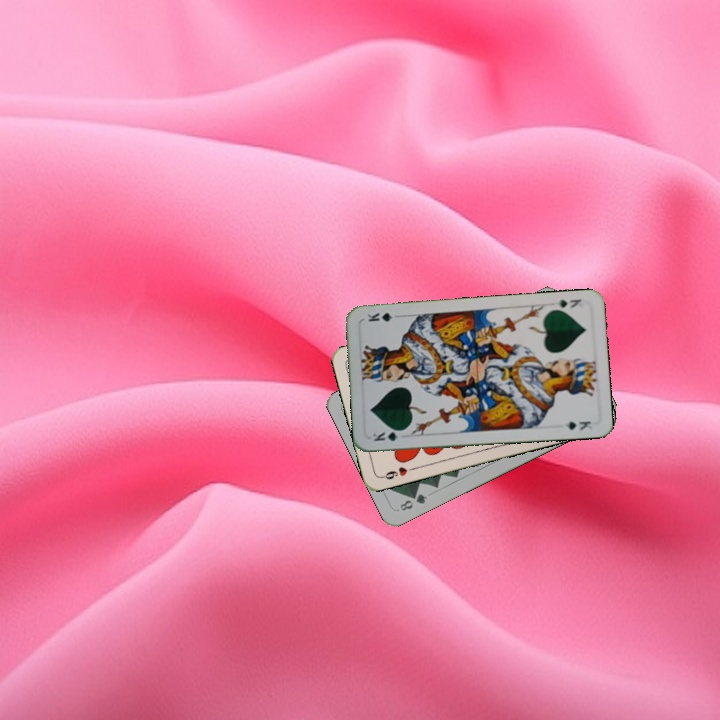G8: (396, 489, 430, 513)
GK: (369, 426, 408, 444), (552, 295, 585, 312)
H9: (377, 463, 417, 482)
